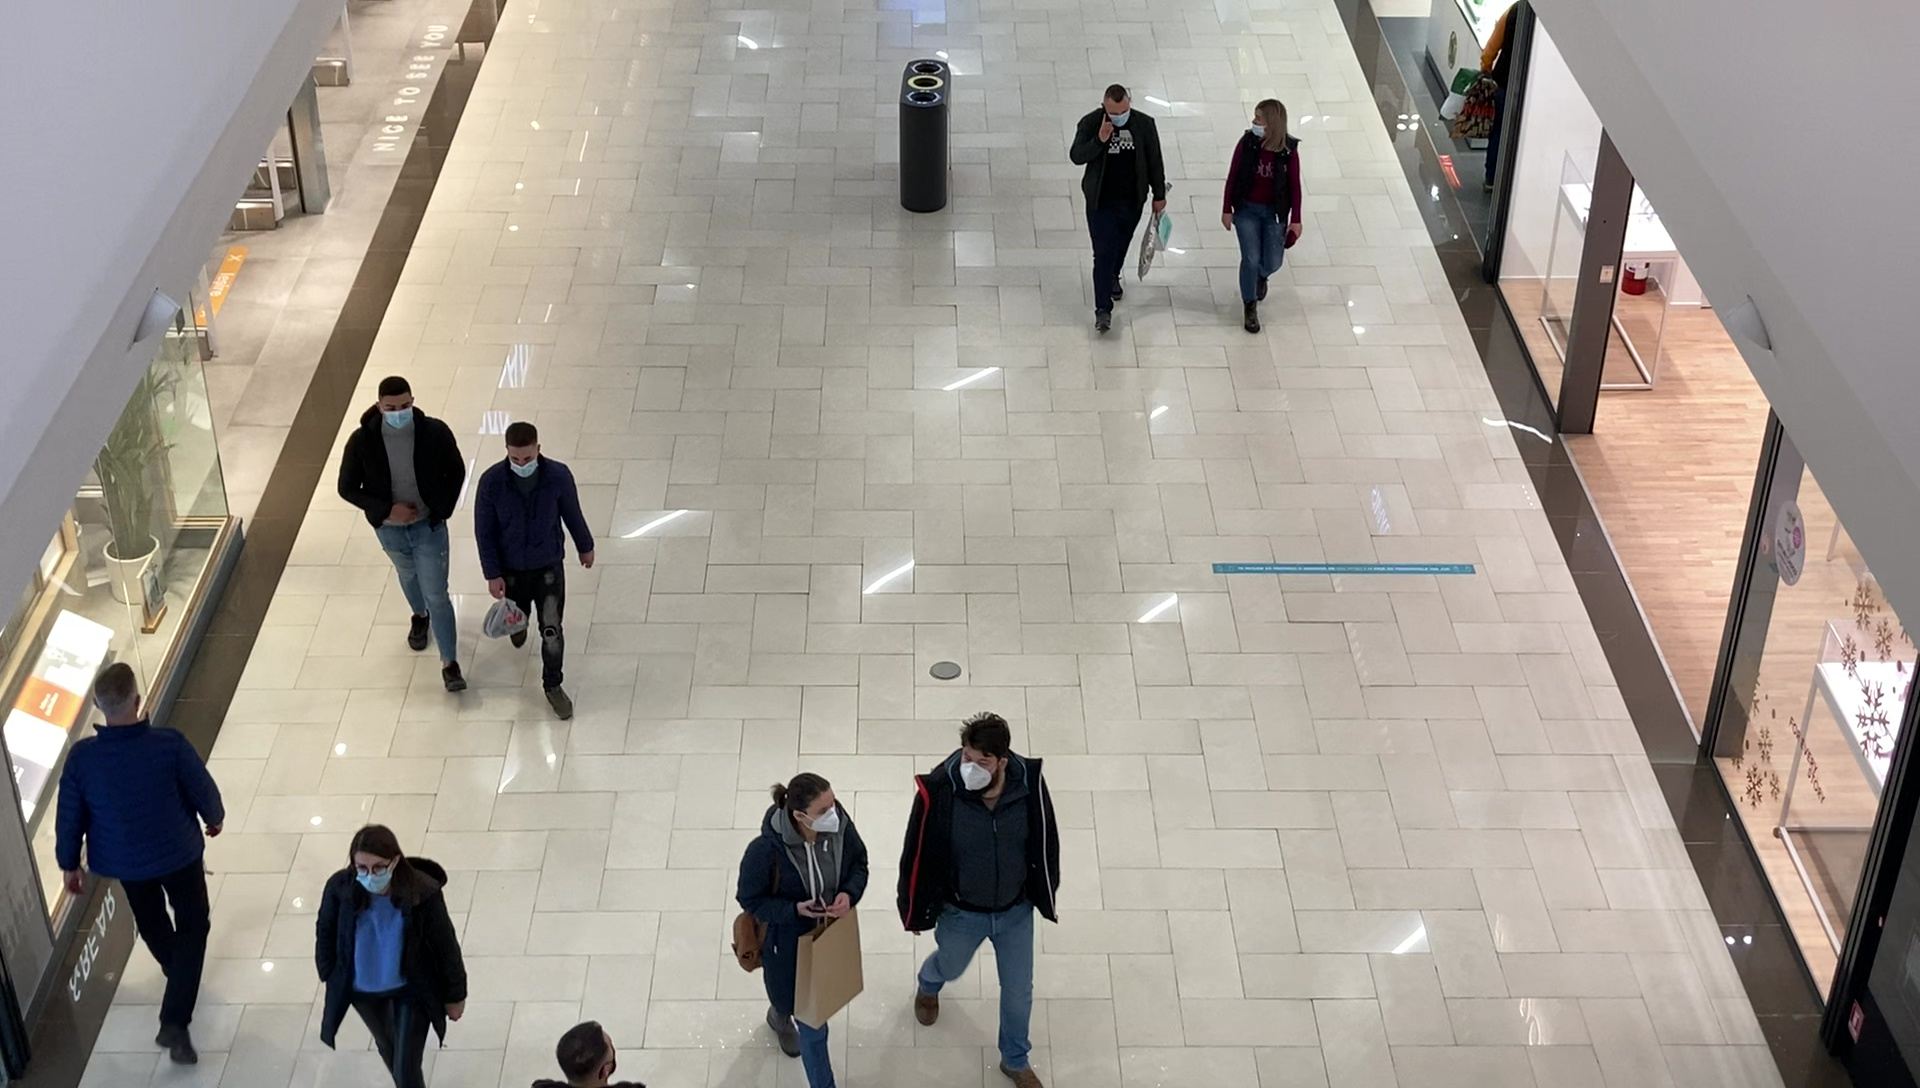person: (53, 662, 226, 1063), (898, 716, 1060, 1088), (736, 772, 872, 1088), (338, 377, 469, 695), (313, 825, 470, 1088), (476, 420, 594, 724), (1070, 84, 1171, 331), (1223, 99, 1306, 335)
